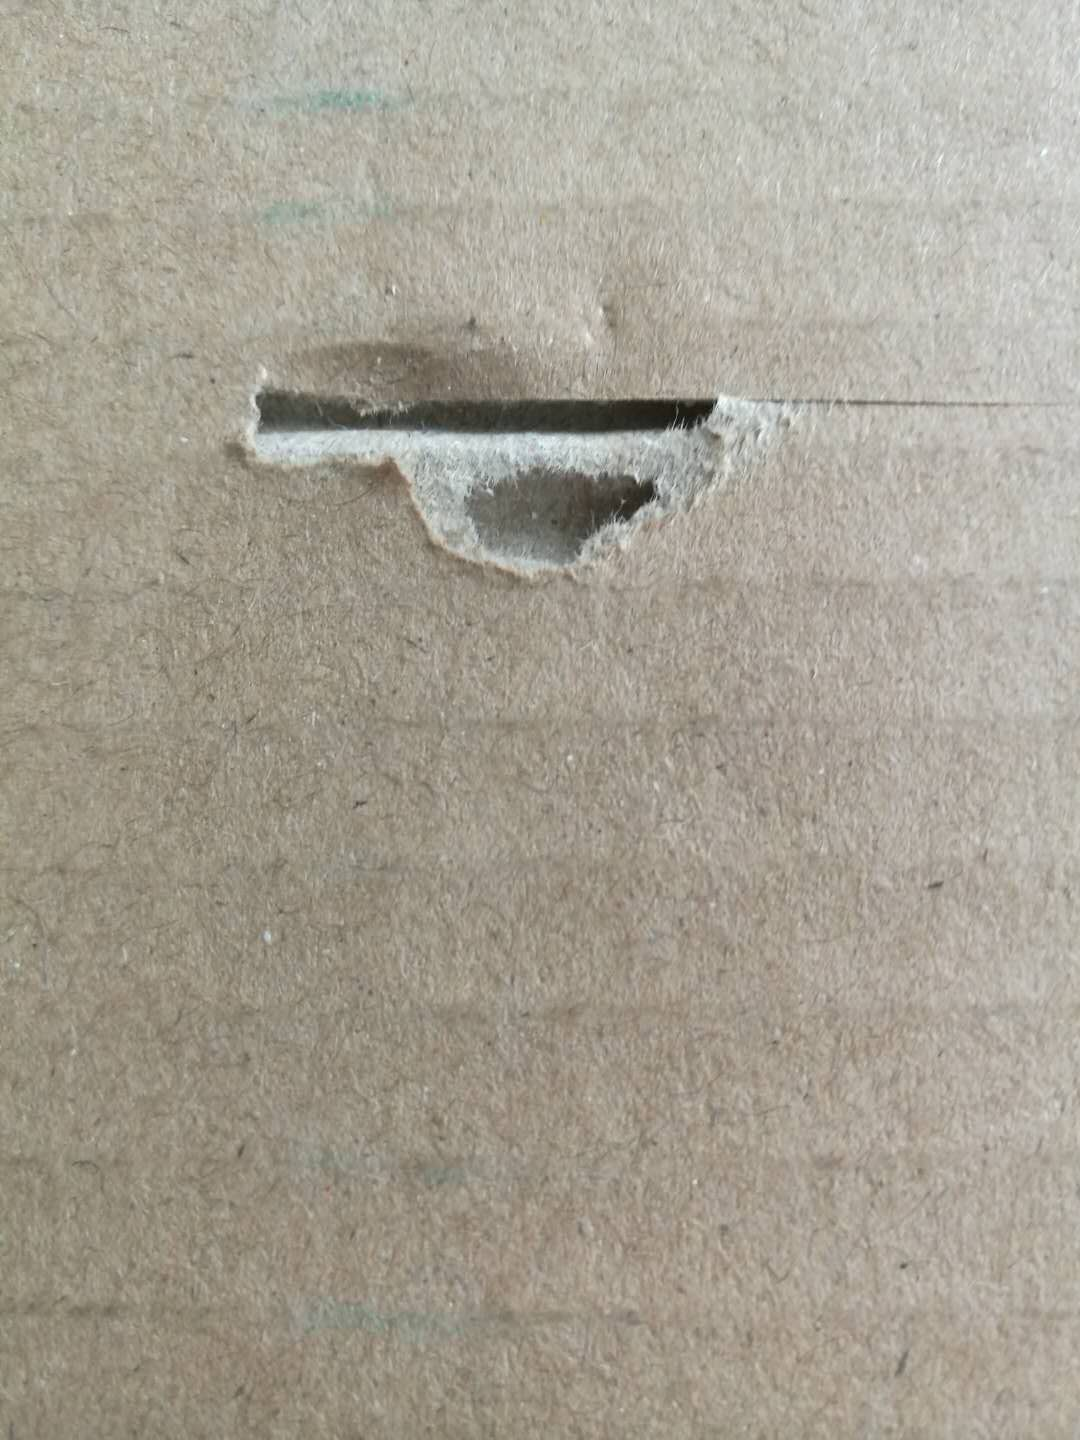defect: (183, 273, 1068, 604)
